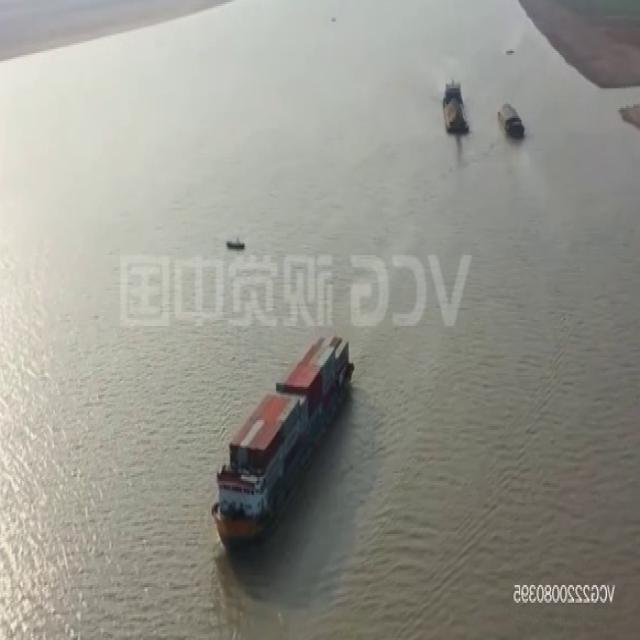cargoship: (215, 298, 368, 516)
